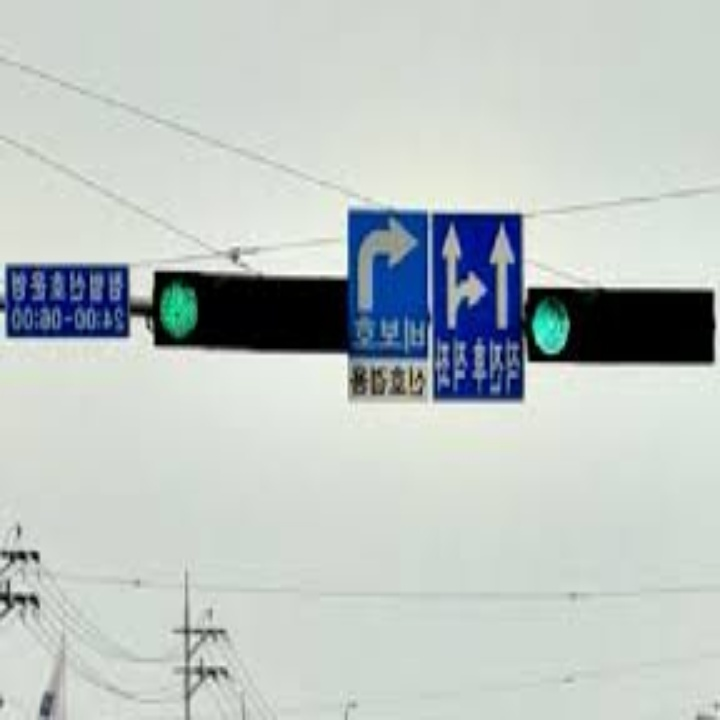right: (350, 211, 424, 316)
